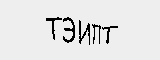И: (79, 17, 91, 44)
П: (92, 24, 102, 46)
Т: (43, 17, 61, 41), (100, 24, 117, 46)
Э: (61, 17, 76, 42)
